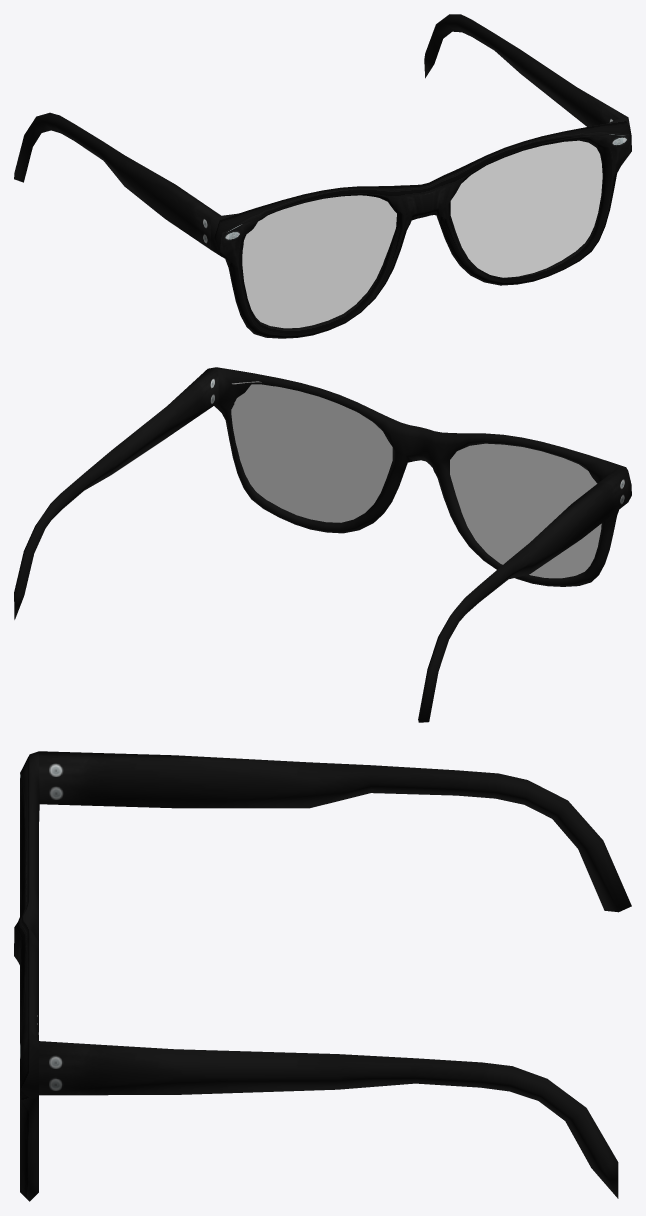
The model's file is anteojos.gltf.
The picture shows the model from 3 angles, top to bottom: view 1: azimuth 30°, elevation 25°; view 2: azimuth 150°, elevation 25°; view 3: azimuth 270°, elevation 25°; orthographic projection. The views are drawn at different scales.
Visible parts, largest first — view 1: Plano, Glasses; view 2: Plano, Glasses; view 3: Glasses.
Part boxes in pixels (left/top/right/bottom): Plano: left=242, top=140, right=602, bottom=328; Glasses: left=14, top=14, right=631, bottom=338; Plano: left=231, top=381, right=601, bottom=578; Glasses: left=14, top=367, right=631, bottom=722; Glasses: left=14, top=751, right=631, bottom=1201.
Size of the model in its own units: 1.55 by 0.5073 by 1.35.
2 materials, 1 textured.
